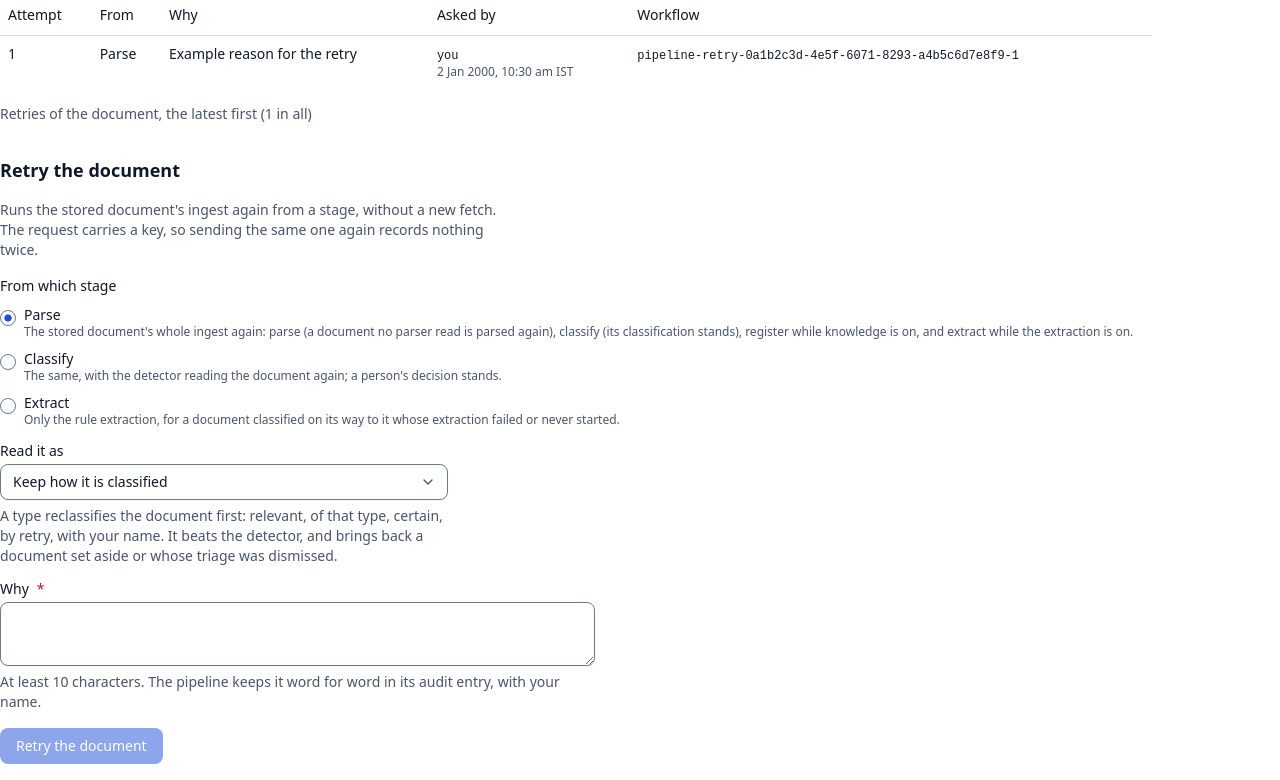
Test: DocumentView › warns that no rule is extracted from a type kept for reference
(page scrolled)
Click the 3rd radio button named "Extract".
click(8, 406)  # box 0,398 -> 16,414
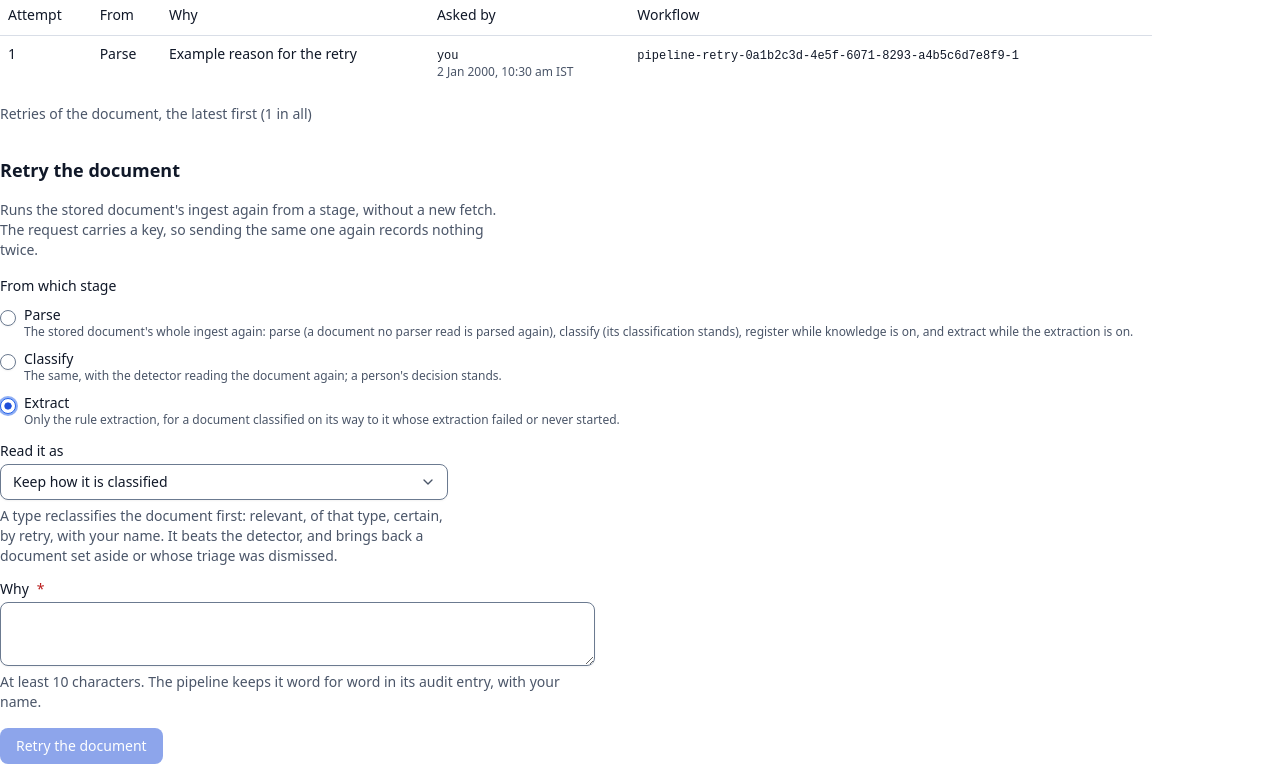
Select "Statute" in the dropdown labelled "Read it as" at point(224, 482), box 0,464 -> 448,500
(page scrolled)
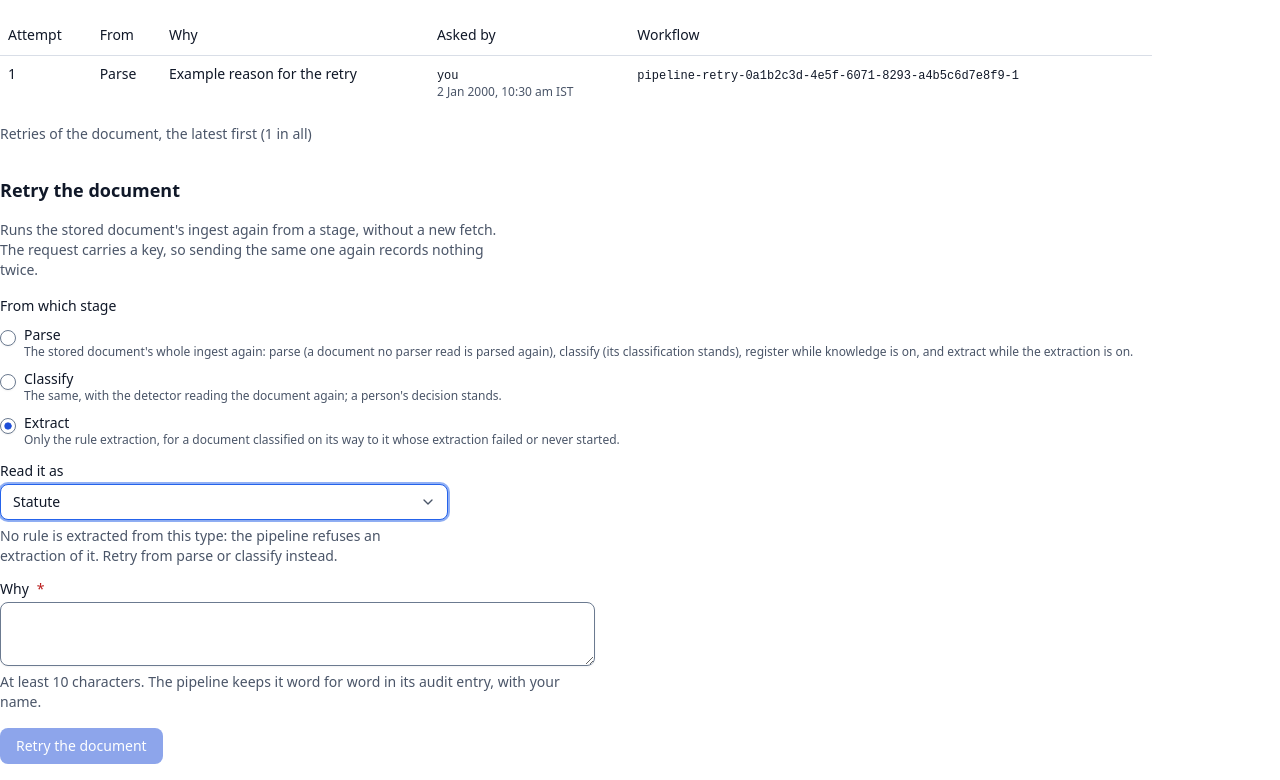
Expected: the text "No rule is extracted from this type" is shown, 0,526 -> 381,564
Type "Example reason of enough length" into the text box labelled "Why *".
click(297, 634); type("Example reason of enough length")  # box 0,602 -> 595,666
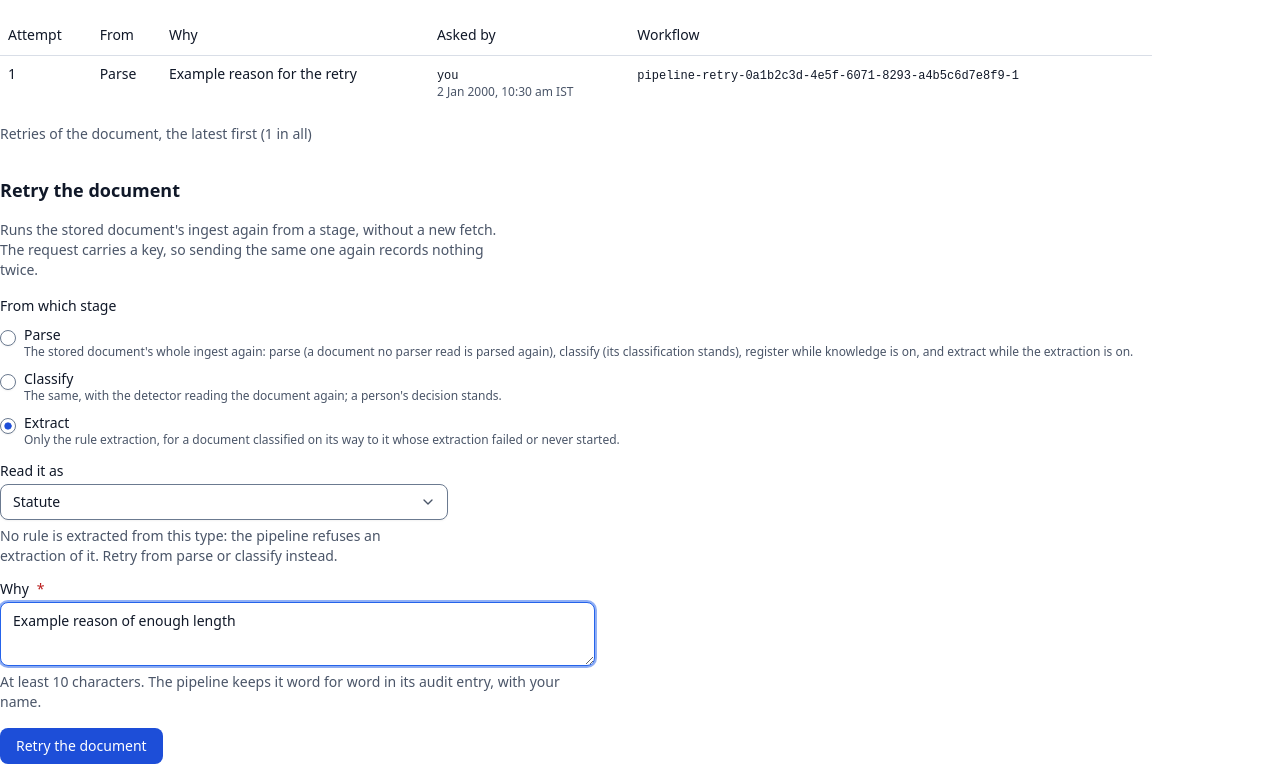
Click the button "Retry the document".
click(81, 746)  # box 0,728 -> 163,764
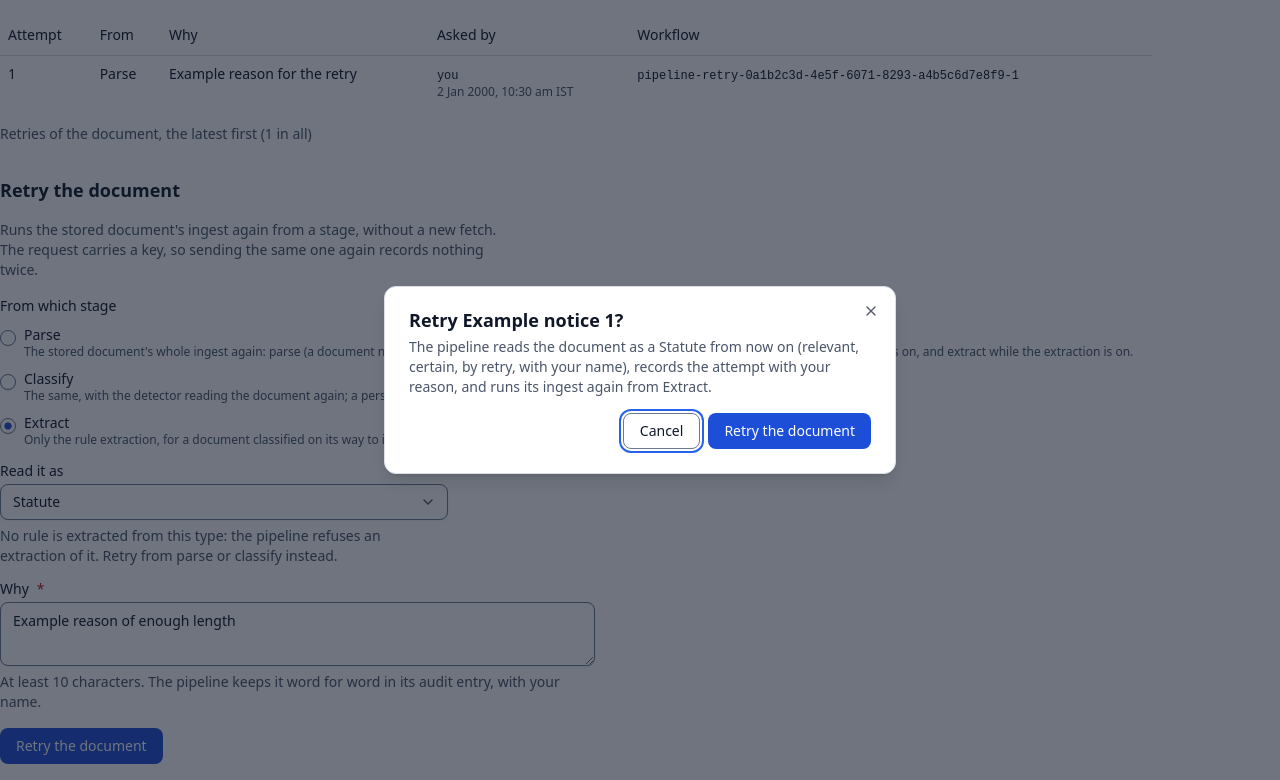
Expected: the dialog shows "from Extract", 409,337 -> 859,396
